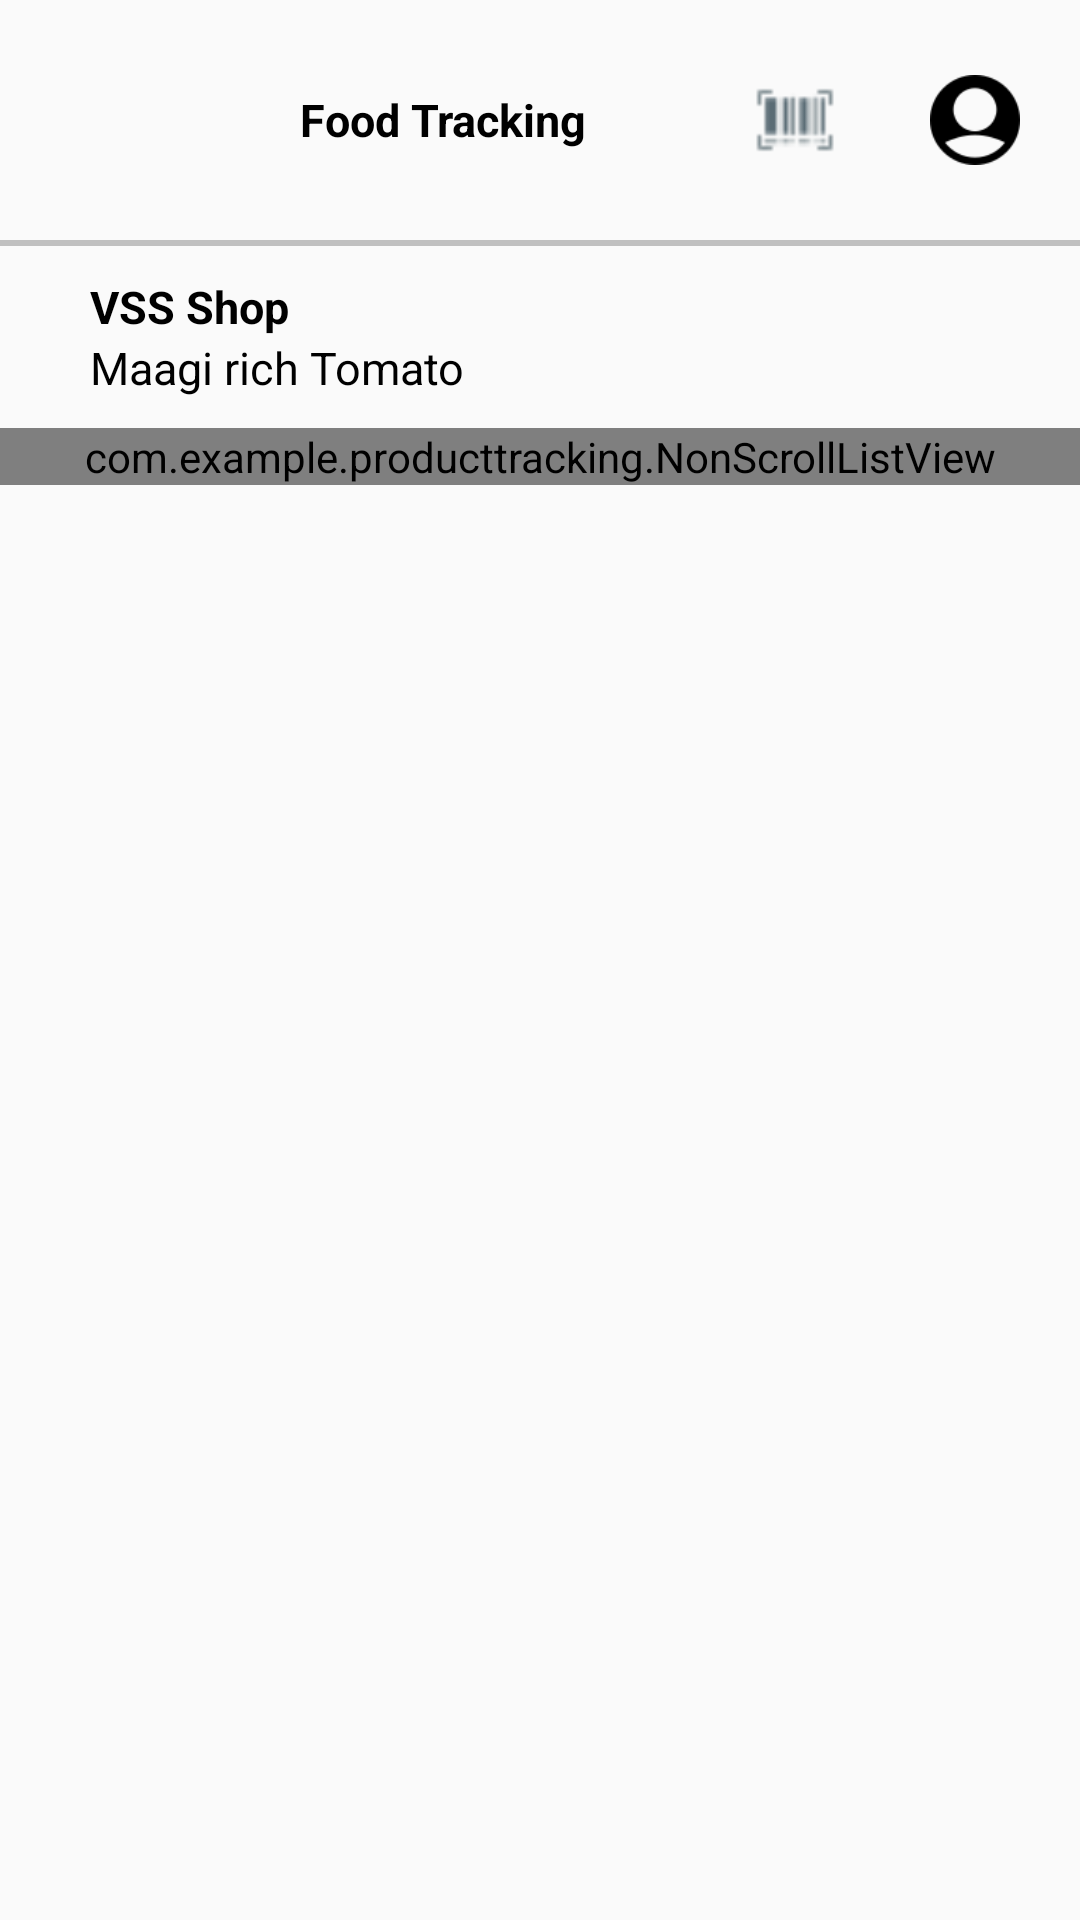

Icons on this 1080 x 1920 Android screen, each with the point to tap as (x=x, y=y):
scanner: (x=795, y=120)
user: (x=975, y=120)
